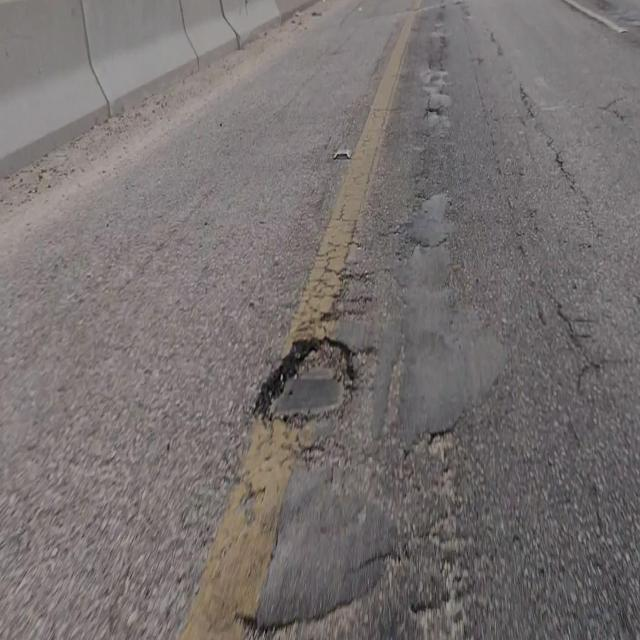Potholes: (252, 337, 357, 425)
